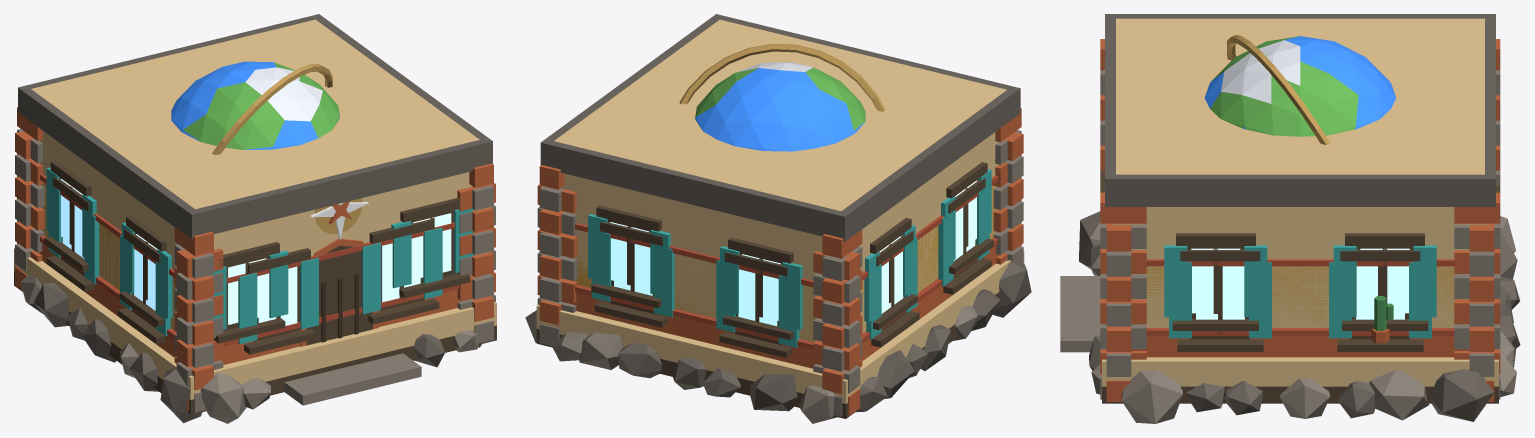
Rendered from geography.glb.
3 views of the same model, side by side, from view 1: azimuth 30°, elevation 25°; view 2: azimuth 150°, elevation 25°; view 3: azimuth 270°, elevation 25° (orthographic). The views are drawn at different scales.
Visible parts, largest first — view 1: geography_base, geography_middle, geography_top, geography_top_globe; view 2: geography_base, geography_middle, geography_top, geography_top_globe; view 3: geography_base, geography_middle, geography_top_globe, geography_top.
Part boxes in pixels (x1=…): geography_base: x1=15, y1=14, x2=495, y2=423; geography_middle: x1=15, y1=100, x2=495, y2=412; geography_top: x1=14, y1=64, x2=496, y2=414; geography_top_globe: x1=171, y1=61, x2=339, y2=149; geography_base: x1=525, y1=14, x2=1031, y2=423; geography_middle: x1=537, y1=101, x2=1023, y2=416; geography_top: x1=536, y1=43, x2=1024, y2=418; geography_top_globe: x1=695, y1=62, x2=865, y2=151; geography_base: x1=1060, y1=14, x2=1520, y2=423; geography_middle: x1=1100, y1=70, x2=1500, y2=399; geography_top_globe: x1=1204, y1=36, x2=1395, y2=136; geography_top: x1=1102, y1=35, x2=1498, y2=403.
Size of the model in its own units: 2.91 by 2.18 by 2.99.
